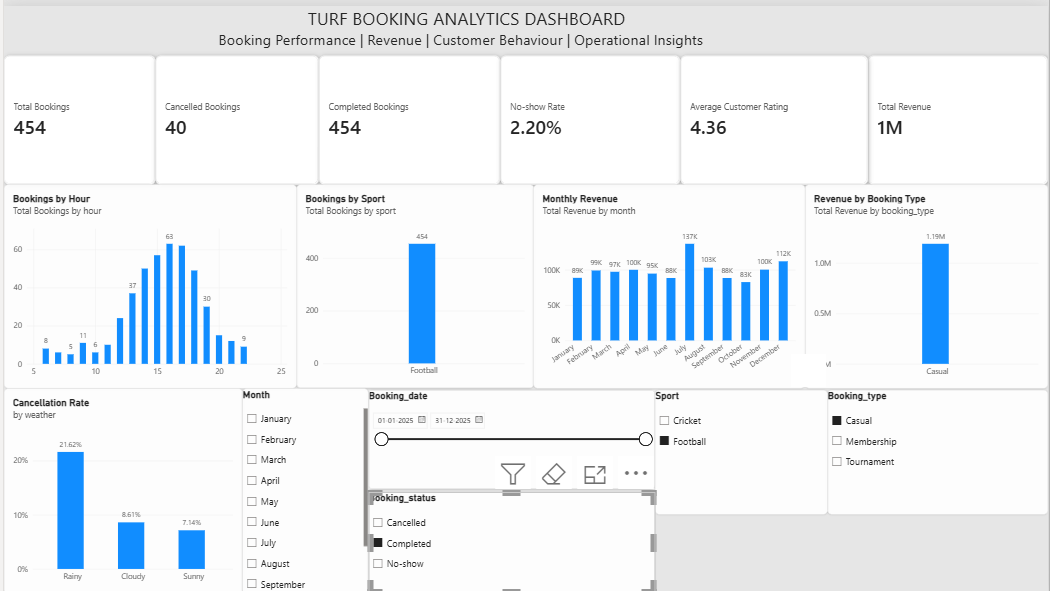

What the dashboard file says about the page in this screenshot:
{"tool":"powerbi","page":{"name":"Page 1","canvas":[1920,1080],"ordinal":0},"visuals":[{"type":"cardVisual","fields":{"Data":["turf_bookings_synthetic.Total Bookings"]},"box":[0,91,278.5,237.1],"z":0},{"type":"cardVisual","fields":{"Data":["turf_bookings_synthetic.Total Revenue"]},"box":[1588.2,91,330.9,237.1],"z":1000},{"type":"cardVisual","fields":{"Data":["turf_bookings_synthetic.Cancelled Bookings"]},"box":[278.5,91,300.5,237.1],"z":2000},{"type":"cardVisual","fields":{"Data":["turf_bookings_synthetic.Completed Bookings"]},"box":[579,91,333.6,237.1],"z":3000},{"type":"cardVisual","fields":{"Data":["turf_bookings_synthetic.No-show Rate"]},"box":[912.7,91,330.9,237.1],"z":4000},{"type":"cardVisual","fields":{"Data":["turf_bookings_synthetic.Average Customer Rating"]},"box":[1243.6,91,344.7,237.1],"z":5000},{"type":"clusteredColumnChart","title":"Bookings by Sport ","fields":{"Category":["turf_bookings_synthetic.sport"],"Y":["turf_bookings_synthetic.Total Bookings"]},"box":[537.7,328.1,436.5,374.2],"z":6000},{"type":"clusteredColumnChart","title":"Revenue by Booking Type","fields":{"Category":["turf_bookings_synthetic.booking_type"],"Y":["turf_bookings_synthetic.Total Revenue"]},"box":[1472.4,328.1,446.7,375],"z":7000},{"type":"clusteredColumnChart","title":"Monthly Revenue","fields":{"Category":["turf_bookings_synthetic.month"],"Y":["turf_bookings_synthetic.Total Revenue"]},"box":[973.3,328.1,499.1,375],"z":8000},{"type":"clusteredColumnChart","title":"Bookings by Hour","fields":{"Category":["turf_bookings_synthetic.hour"],"Y":["turf_bookings_synthetic.Total Bookings"]},"box":[0,328.1,537.7,375],"z":9000},{"type":"clusteredColumnChart","fields":{"Category":["turf_bookings_synthetic.weather"],"Y":["turf_bookings_synthetic.Cancellation Rate"]},"box":[0,703.1,438.4,377],"z":10000},{"type":"textbox","box":[394.3,0,921.1,147.4],"z":16000},{"type":"slicer","title":"  Booking_date","fields":{"Values":["turf_bookings_synthetic.booking_date"]},"box":[670,705.9,526.6,182],"z":16001},{"type":"slicer","title":"Booking_type","fields":{"Values":["turf_bookings_synthetic.booking_type"]},"box":[1513.8,705.9,405.3,228.9],"z":16002},{"type":"slicer","title":"Sport","fields":{"Values":["turf_bookings_synthetic.sport"]},"box":[1196.7,705.9,317.1,228.9],"z":16003},{"type":"slicer","title":"Booking_status","fields":{"Values":["turf_bookings_synthetic.booking_status"]},"box":[670,893.4,526.6,187.5],"z":16004},{"type":"slicer","title":"Month","fields":{"Values":["turf_bookings_synthetic.month"]},"box":[438.4,703.1,231.6,377.8],"z":16005}]}

Visuals, with their boxes in screenshot pixels (x1, y1, x2, y2), scaled from the page's 1920x1080 canvas onto the 1050x591 screenshot:
cardVisual - turf_bookings_synthetic.Total Bookings: [0,50,152,180]
cardVisual - turf_bookings_synthetic.Total Revenue: [869,50,1049,180]
cardVisual - turf_bookings_synthetic.Cancelled Bookings: [152,50,317,180]
cardVisual - turf_bookings_synthetic.Completed Bookings: [317,50,499,180]
cardVisual - turf_bookings_synthetic.No-show Rate: [499,50,680,180]
cardVisual - turf_bookings_synthetic.Average Customer Rating: [680,50,869,180]
"Bookings by Sport " clusteredColumnChart: [294,180,533,384]
"Revenue by Booking Type" clusteredColumnChart: [805,180,1049,385]
"Monthly Revenue" clusteredColumnChart: [532,180,805,385]
"Bookings by Hour" clusteredColumnChart: [0,180,294,385]
clusteredColumnChart - turf_bookings_synthetic.weather x turf_bookings_synthetic.Cancellation Rate: [0,385,240,590]
textbox: [216,0,719,81]
"  Booking_date" slicer: [366,386,654,486]
"Booking_type" slicer: [828,386,1049,512]
"Sport" slicer: [654,386,828,512]
"Booking_status" slicer: [366,489,654,590]
"Month" slicer: [240,385,366,590]
